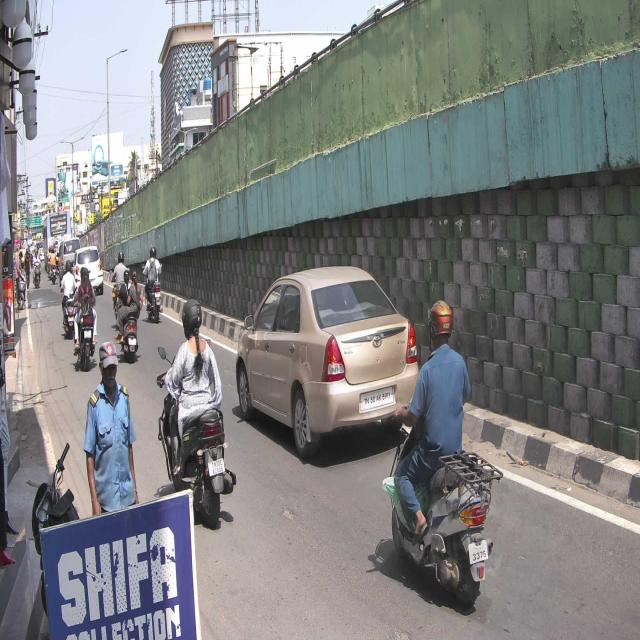single_rider: (388, 298, 497, 610), (156, 295, 237, 530)
